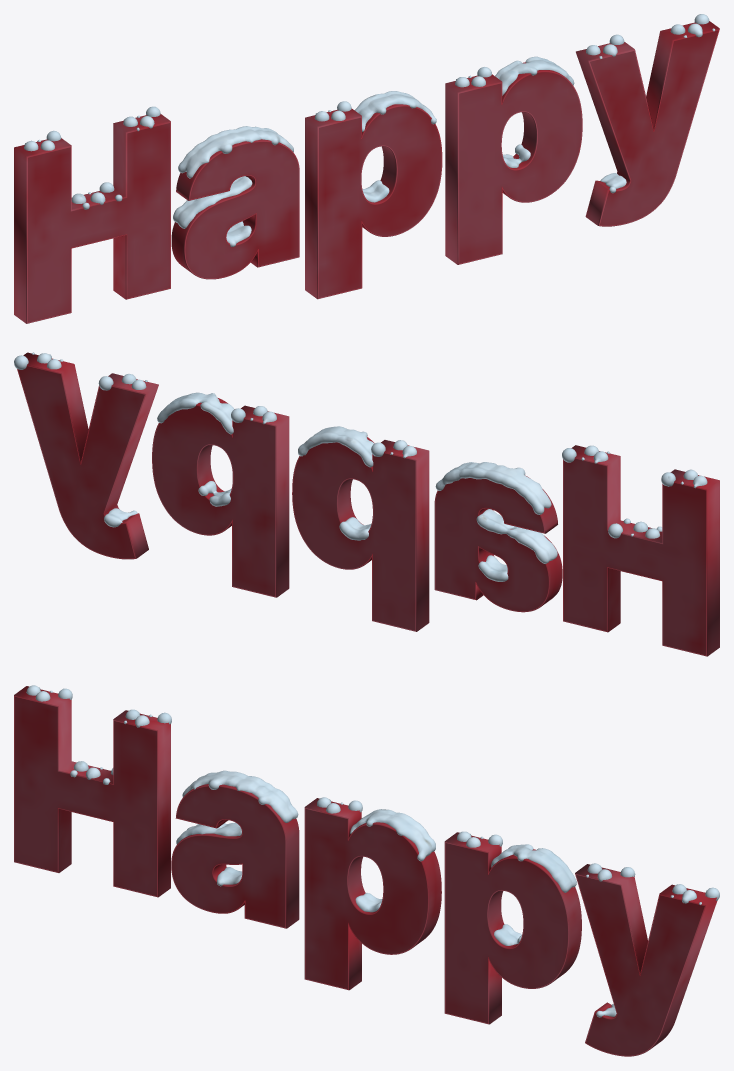
Rendered from happy.glb.
3 views of the same model, one above another, from view 1: azimuth 30°, elevation 25°; view 2: azimuth 150°, elevation 25°; view 3: azimuth 330°, elevation 25° (orthographic).
Visible parts, largest first — view 1: Happy; view 2: Happy; view 3: Happy.
Boxes of the visible parts, left/top/right/bottom form: Happy: left=14, top=14, right=719, bottom=323; Happy: left=14, top=352, right=719, bottom=656; Happy: left=14, top=685, right=719, bottom=1056.
Bounding box in the file's own units: 45.44 × 13.79 × 2.07.
Materials: 2 (2 with a texture image).
